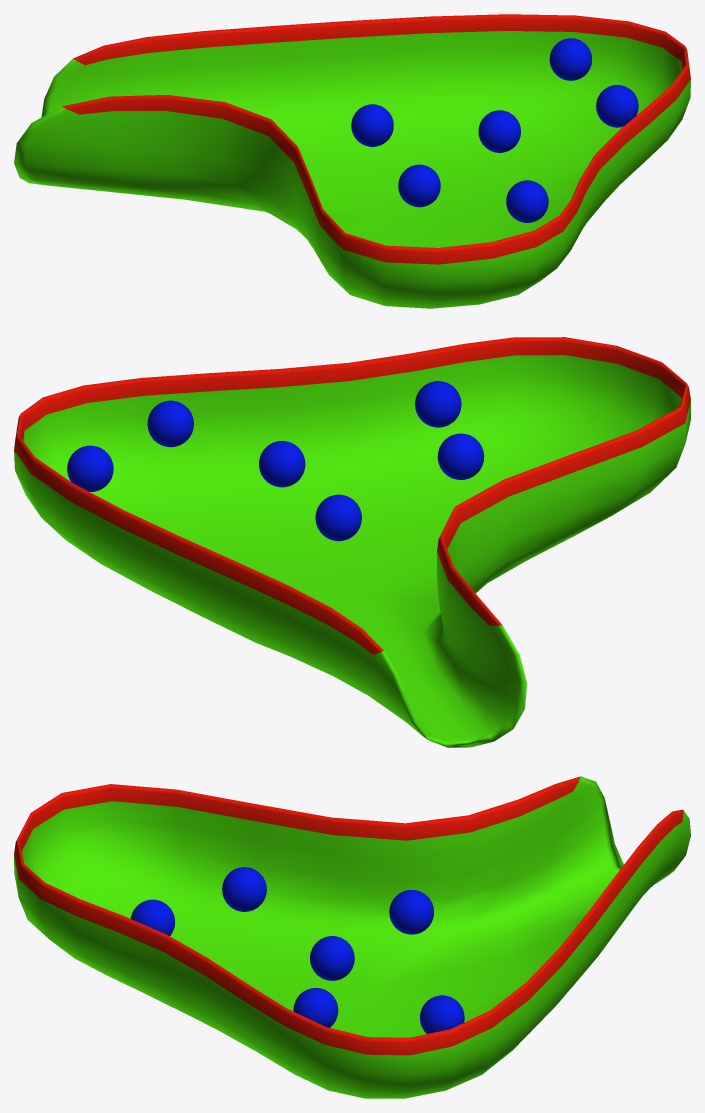
File: Mesossomos v3.glb
The picture shows the model from 3 angles, top to bottom: view 1: azimuth 30°, elevation 25°; view 2: azimuth 150°, elevation 25°; view 3: azimuth 270°, elevation 25°; orthographic projection. The views are drawn at different scales.
Visible parts, largest first — view 1: Cube, Sphere.006, Sphere.001, Sphere.004, Sphere.003, Sphere.005, Sphere.002; view 2: Cube, Sphere.001, Sphere.006, Sphere.002, Sphere.003, Sphere.004, Sphere.005; view 3: Cube, Sphere.004, Sphere.006, Sphere.003, Sphere.005, Sphere.002, Sphere.001.
Part boxes in pixels (x1=…): Cube: x1=14, y1=14, x2=690, y2=308; Sphere.006: x1=351, y1=104, x2=393, y2=146; Sphere.001: x1=506, y1=180, x2=548, y2=222; Sphere.004: x1=478, y1=110, x2=520, y2=152; Sphere.003: x1=398, y1=164, x2=440, y2=207; Sphere.005: x1=549, y1=38, x2=592, y2=80; Sphere.002: x1=596, y1=85, x2=638, y2=127; Cube: x1=14, y1=337, x2=690, y2=747; Sphere.001: x1=415, y1=381, x2=461, y2=427; Sphere.006: x1=315, y1=494, x2=361, y2=541; Sphere.002: x1=147, y1=400, x2=193, y2=447; Sphere.003: x1=437, y1=433, x2=484, y2=479; Sphere.004: x1=259, y1=441, x2=305, y2=487; Sphere.005: x1=67, y1=445, x2=113, y2=491; Cube: x1=14, y1=776, x2=690, y2=1098; Sphere.004: x1=310, y1=936, x2=354, y2=980; Sphere.006: x1=389, y1=890, x2=433, y2=934; Sphere.003: x1=222, y1=867, x2=266, y2=911; Sphere.005: x1=420, y1=995, x2=464, y2=1033; Sphere.002: x1=293, y1=988, x2=338, y2=1027; Sphere.001: x1=130, y1=899, x2=174, y2=935.
Size of the model in its own units: 4.61 by 0.9277 by 4.59.
